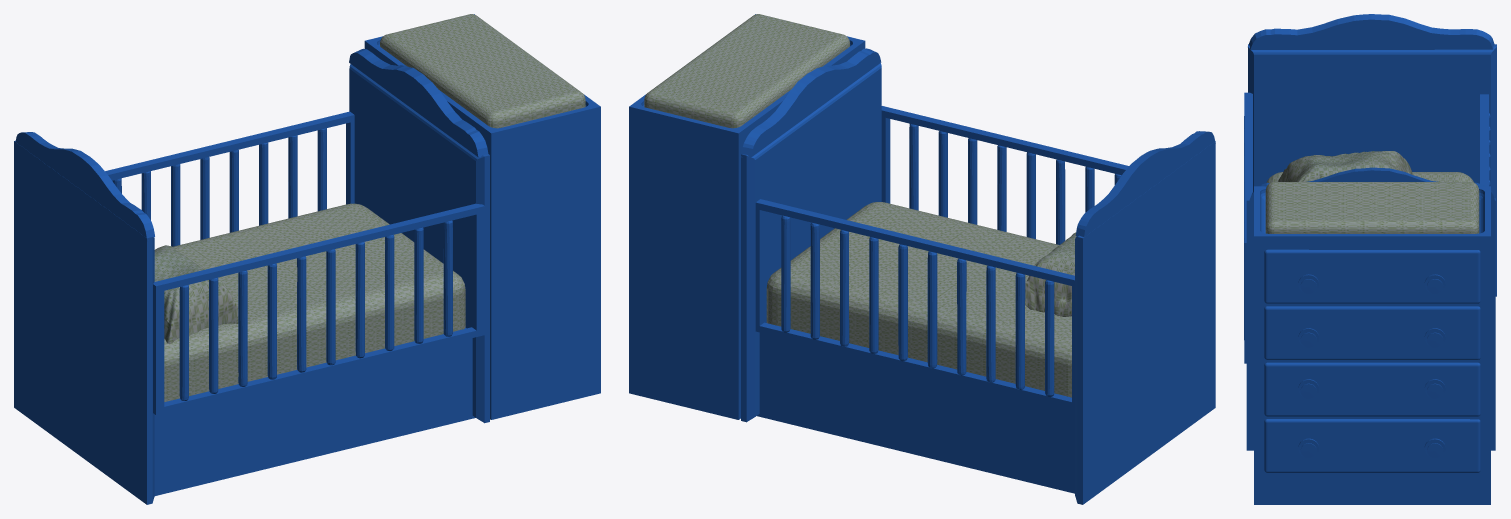
Rendered from Letto END.obj.
3 renders of one model, left to right at view 1: azimuth 30°, elevation 25°; view 2: azimuth 150°, elevation 25°; view 3: azimuth 270°, elevation 25°, orthographic. The views are drawn at different scales.
Visible parts, largest first — view 1: Letto001_End; view 2: Letto001_End; view 3: Letto001_End.
Part boxes in pixels (left/top/right/bottom): Letto001_End: left=14, top=14, right=600, bottom=504; Letto001_End: left=629, top=14, right=1215, bottom=504; Letto001_End: left=1244, top=14, right=1496, bottom=504.
Bounding box in the file's own units: 170 × 105 × 85.35.
